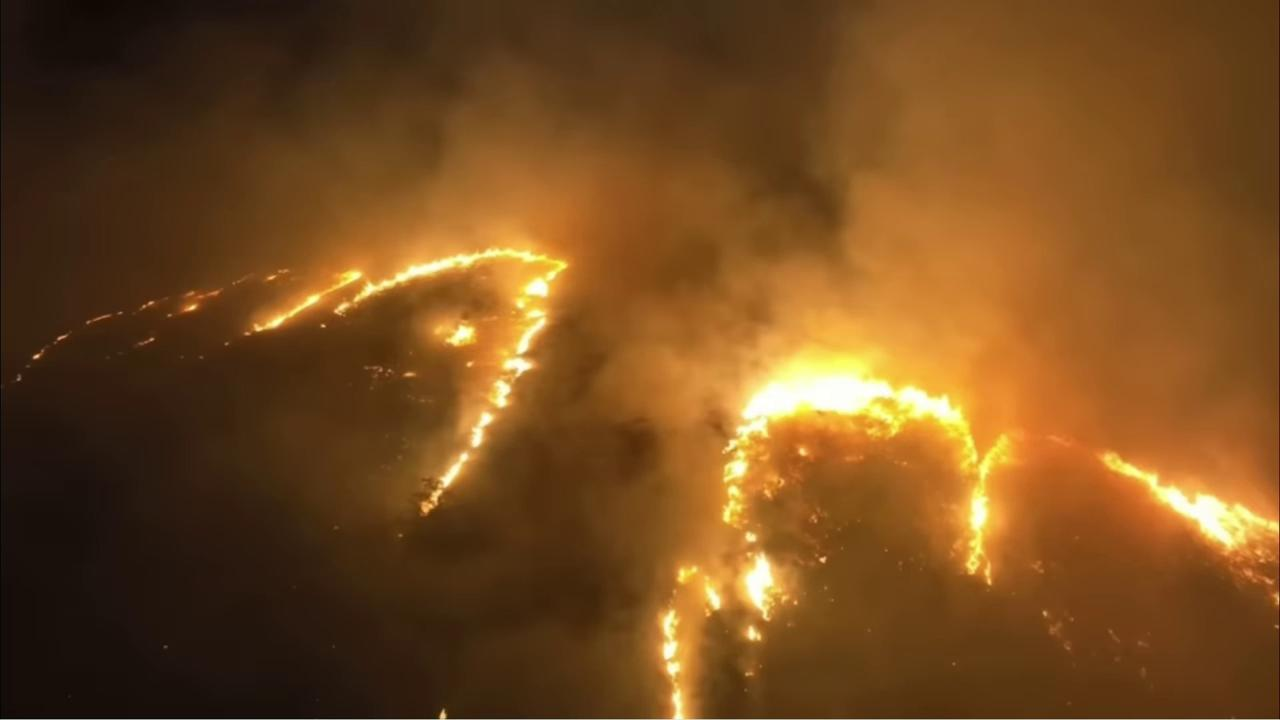fire: (722, 355, 1280, 720), (230, 242, 576, 519), (657, 563, 721, 720), (133, 285, 226, 324), (31, 329, 74, 359), (85, 310, 123, 326), (435, 704, 450, 720), (134, 337, 155, 348)
smoke: (0, 0, 1280, 720)
